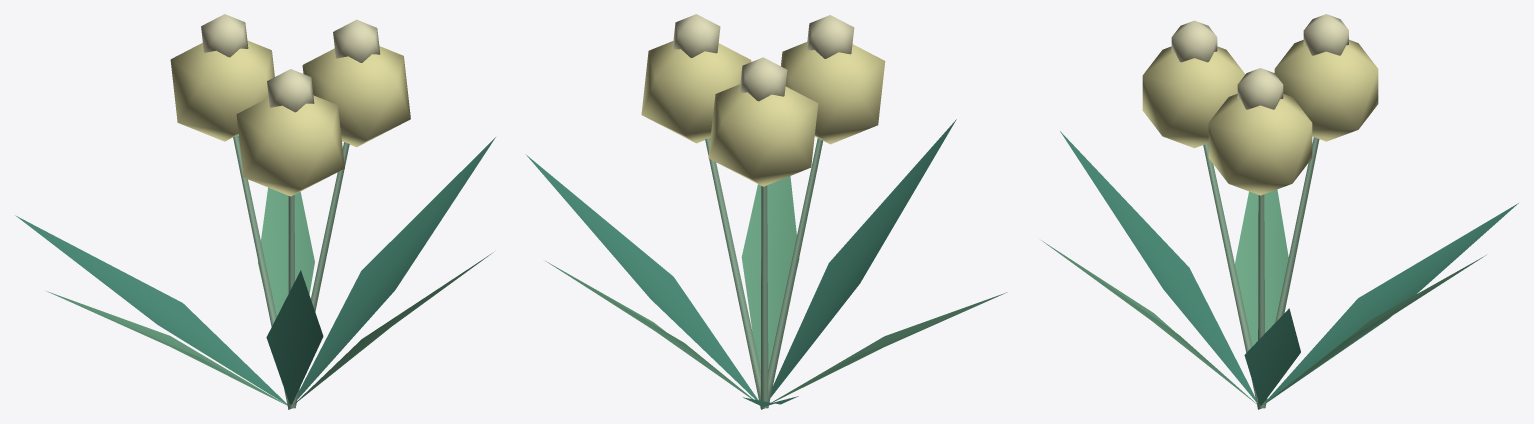
File: faelight_dandelion.glb
The picture shows the model from 3 angles, left to right: view 1: azimuth 30°, elevation 25°; view 2: azimuth 150°, elevation 25°; view 3: azimuth 270°, elevation 25°; orthographic projection.
Parts seen in each view (by area): view 1: faelight_dandelion; view 2: faelight_dandelion; view 3: faelight_dandelion.
Boxes of the visible parts, bbox=[...] form: faelight_dandelion: bbox=[15, 14, 495, 409]; faelight_dandelion: bbox=[525, 14, 1007, 409]; faelight_dandelion: bbox=[1041, 14, 1518, 409].
Size of what is drawn, in the model's own units: 0.3864 by 0.3 by 0.3463.
